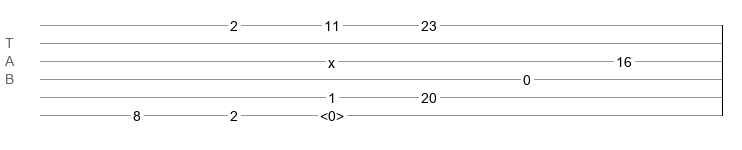0: (523, 72, 531, 82)
1: (328, 90, 336, 100)
11: (324, 18, 340, 28)
16: (616, 54, 632, 64)
2: (230, 108, 238, 118), (230, 18, 238, 28)
20: (421, 90, 437, 100)
23: (421, 18, 437, 28)
8: (133, 108, 141, 118)
harmonic: (320, 108, 344, 118)
x: (328, 55, 335, 63)
